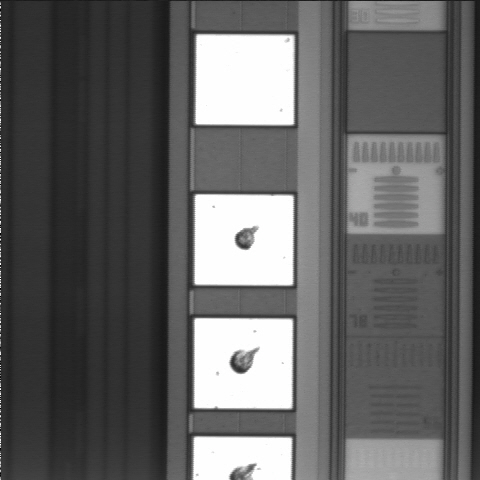pad: (194, 318, 293, 409), (196, 35, 294, 125), (195, 195, 293, 285)
